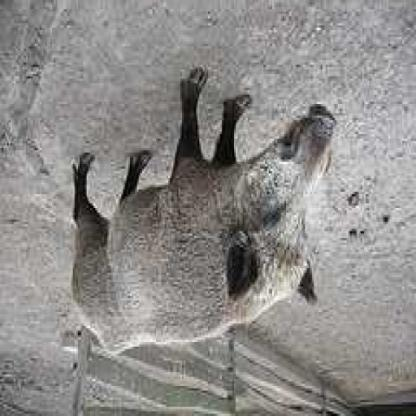boar: (51, 55, 388, 390)
